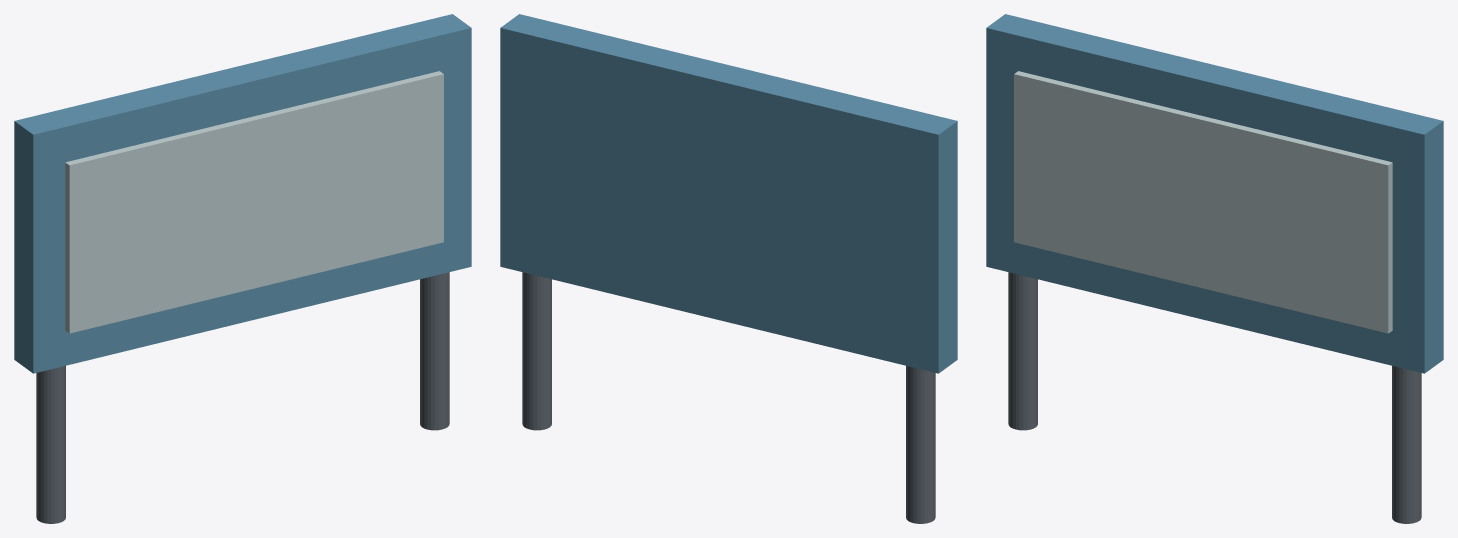
The model's file is signboard.glb.
The picture shows the model from 3 angles, left to right: view 1: azimuth 30°, elevation 25°; view 2: azimuth 150°, elevation 25°; view 3: azimuth 330°, elevation 25°; orthographic projection.
Visible parts, largest first — view 1: map_panel, board, post_1.05, post_-1.05; view 2: board, post_1.05, post_-1.05; view 3: map_panel, board, post_-1.05, post_1.05.
Part boxes in pixels (x1,y1,x2,y2): map_panel: [65, 71, 443, 333]; board: [14, 14, 471, 373]; post_1.05: [420, 272, 449, 430]; post_-1.05: [36, 366, 65, 523]; board: [500, 14, 957, 373]; post_1.05: [522, 272, 551, 430]; post_-1.05: [906, 366, 935, 523]; map_panel: [1014, 71, 1392, 333]; board: [986, 14, 1443, 373]; post_-1.05: [1008, 272, 1037, 430]; post_1.05: [1392, 366, 1421, 523].
Bounding box in the file's own units: 2.4 × 2.08 × 0.22.
